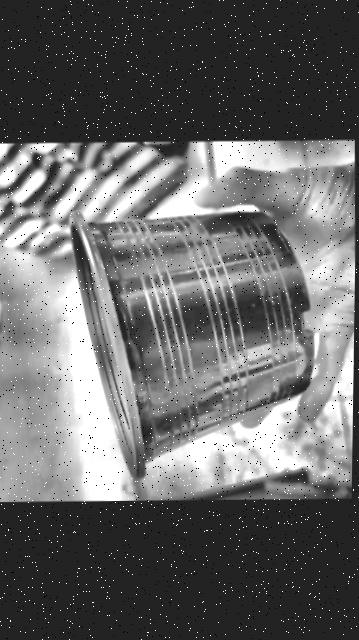pot: (69, 212, 313, 478)
